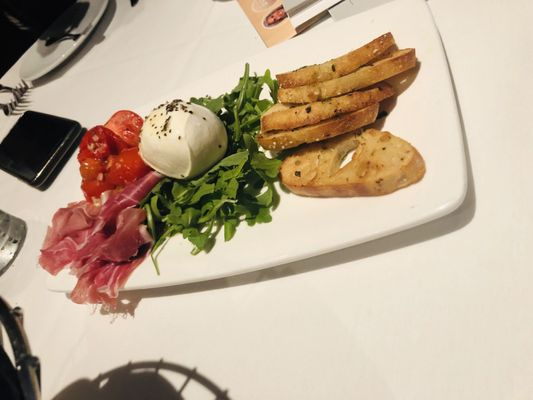burger: (0, 1, 98, 120)
sandwich: (0, 1, 96, 119)
